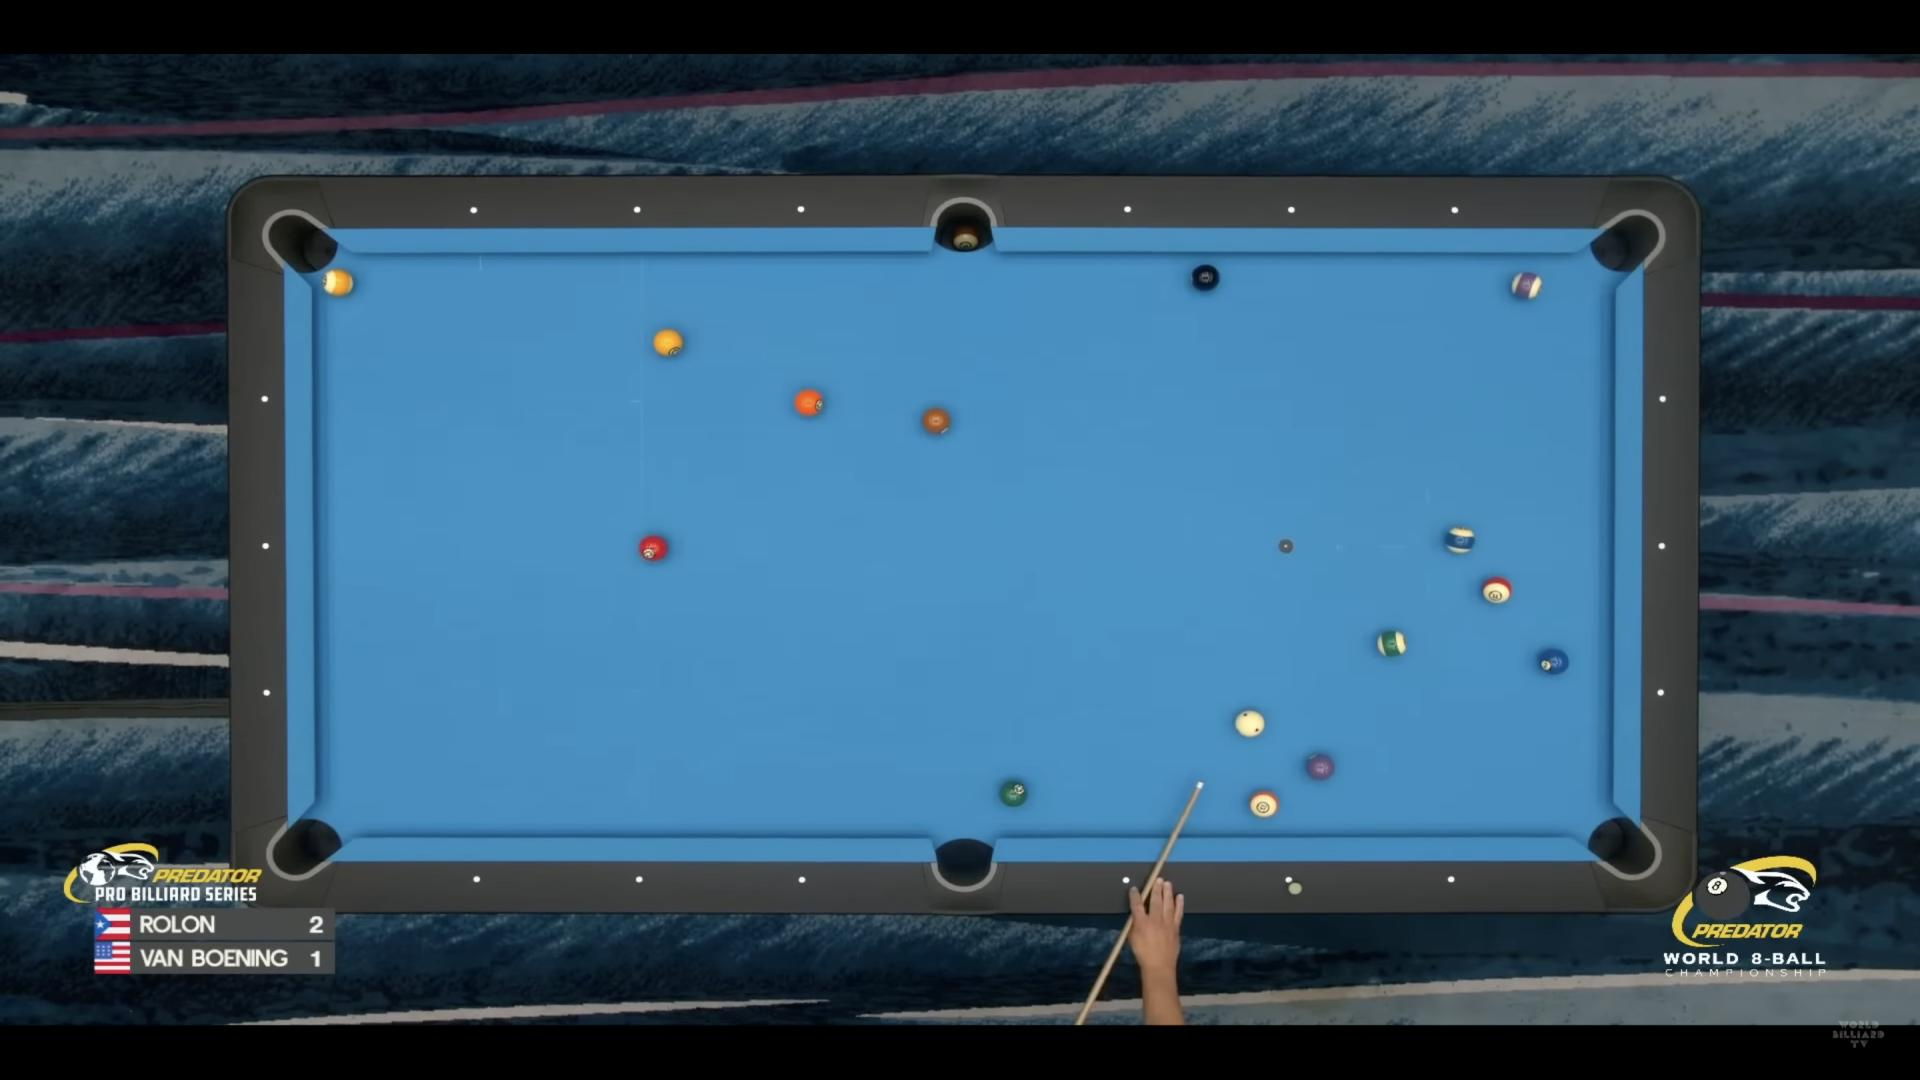Black: (1191, 265, 1220, 290)
Cue: (1236, 709, 1265, 737)
Dot: (1655, 683, 1671, 698), (1654, 393, 1669, 406), (1655, 541, 1671, 554), (261, 684, 274, 698), (258, 392, 272, 405), (794, 203, 808, 215), (468, 203, 481, 215), (630, 203, 644, 215), (258, 541, 272, 553), (1287, 204, 1298, 214), (1122, 204, 1131, 214), (1449, 204, 1458, 214), (1447, 876, 1456, 884), (1284, 876, 1294, 884), (1121, 877, 1130, 885), (472, 874, 481, 882), (634, 876, 644, 884), (798, 876, 807, 884)
Solid: (653, 328, 683, 357), (1305, 753, 1335, 781), (794, 389, 823, 417), (922, 407, 949, 435), (1539, 649, 1568, 675), (638, 535, 669, 560), (1000, 781, 1027, 807)
Striped: (1511, 272, 1542, 299), (323, 269, 353, 297), (1447, 526, 1476, 554), (1377, 630, 1407, 657), (1481, 578, 1511, 604), (1249, 791, 1278, 818)
